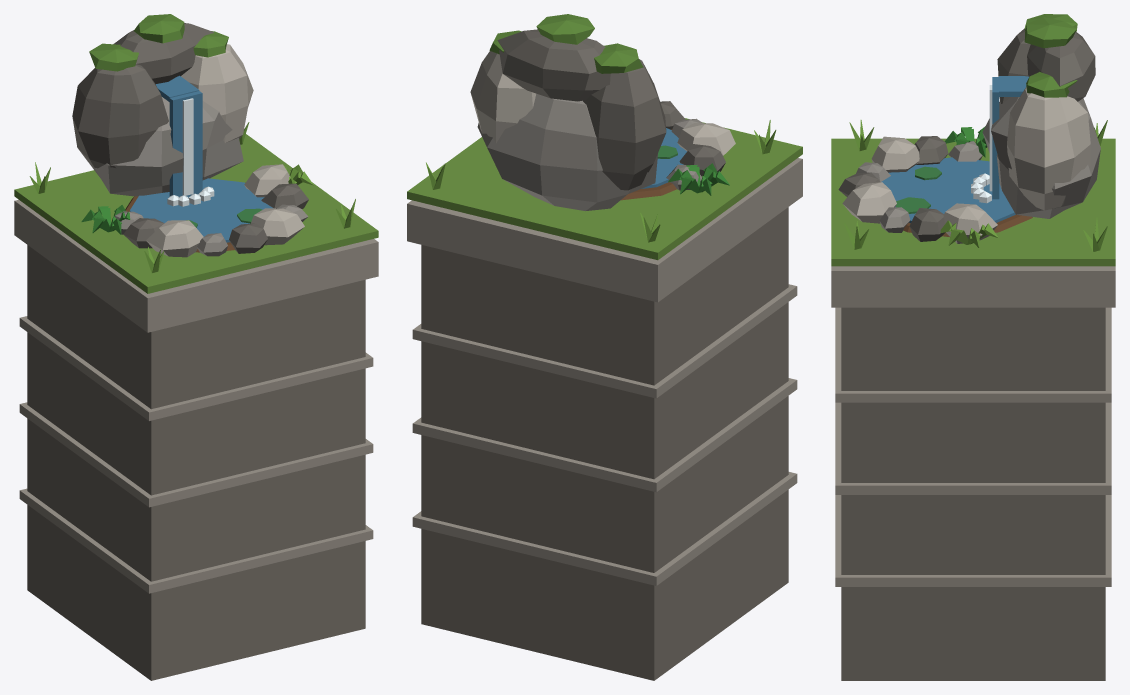
Rendered from decor_waterfall.glb.
3 renders of one model, left to right at view 1: azimuth 30°, elevation 25°; view 2: azimuth 150°, elevation 25°; view 3: azimuth 270°, elevation 25°, orthographic. The views are drawn at different scales.
Visible parts, largest first — view 1: decor_waterfall; view 2: decor_waterfall; view 3: decor_waterfall.
Part boxes in pixels (x1,y1,x2,y2): decor_waterfall: (14,14,378,680); decor_waterfall: (407,14,802,680); decor_waterfall: (831,14,1115,680).
Bounding box in the file's own units: 2.8 × 6.52 × 2.8.
